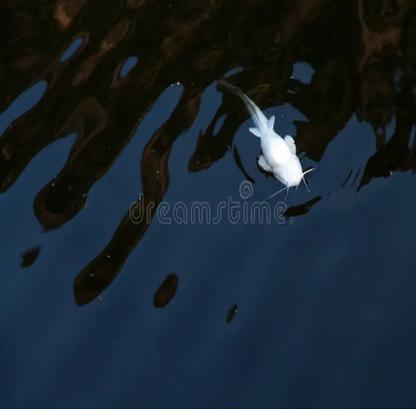deceased fish: (221, 78, 319, 199)
